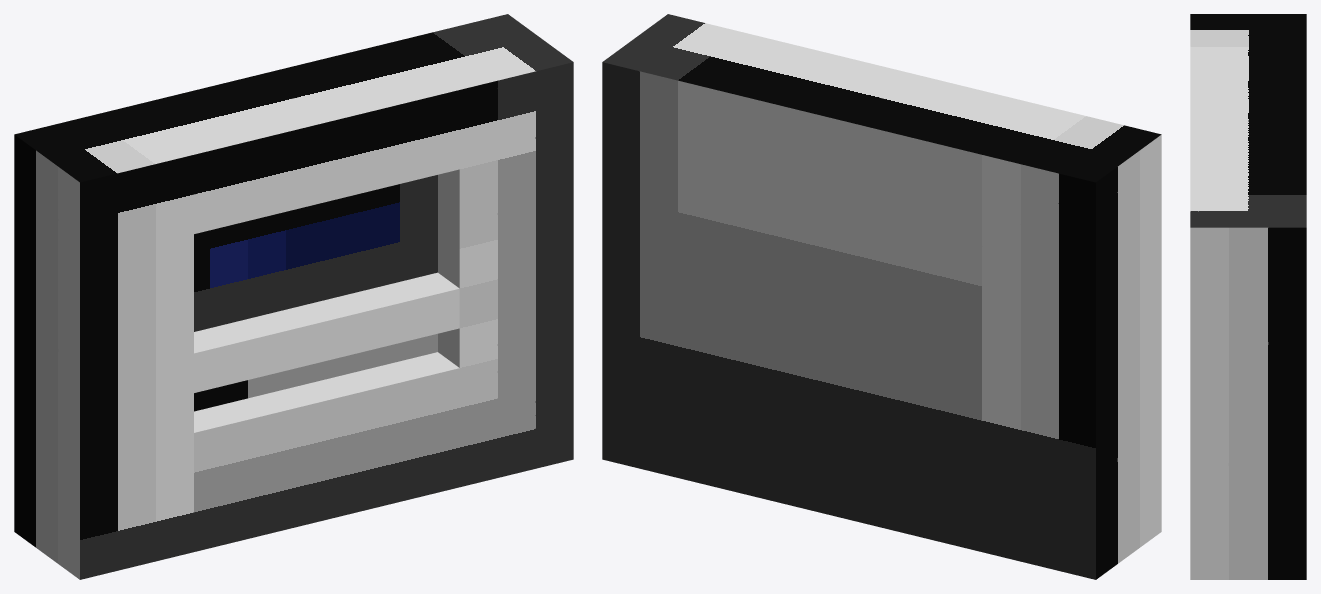
Rendered from keycard_auth_wall_idle.glb.
3 views of the same model, side by side, from view 1: azimuth 30°, elevation 25°; view 2: azimuth 150°, elevation 25°; view 3: azimuth 270°, elevation 25° (orthographic). The views are drawn at different scales.
Parts seen in each view (by area): view 1: Continuous_Reader_Housing; view 2: Continuous_Reader_Housing; view 3: Continuous_Reader_Housing.
Part boxes in pixels (box(x1,y1,x2,y2)): Continuous_Reader_Housing: box(14, 14, 573, 579); Continuous_Reader_Housing: box(602, 14, 1161, 579); Continuous_Reader_Housing: box(1190, 14, 1306, 579).
Size of the model in its own units: 0.3656 by 0.2812 by 0.0844.
1 material, 1 textured.
